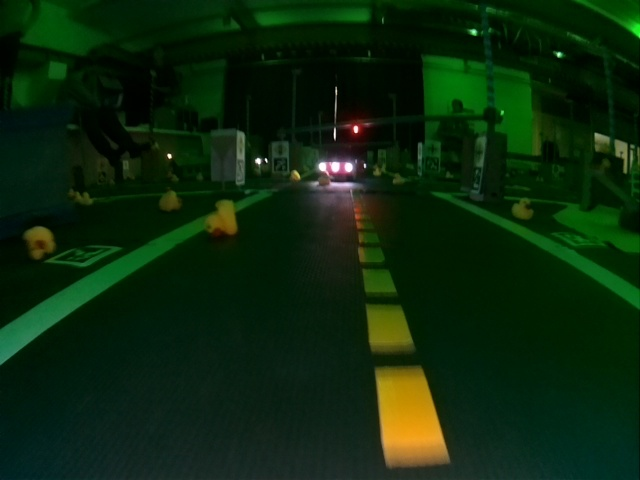Duckie: (205, 201, 237, 232), (26, 229, 54, 258), (513, 200, 533, 217), (157, 191, 177, 207), (319, 174, 329, 183), (290, 171, 299, 179), (393, 175, 401, 183)
Duckiebot: (318, 155, 360, 177)
QR code: (46, 243, 114, 266), (554, 229, 594, 247), (425, 156, 439, 172), (474, 170, 482, 191), (273, 160, 288, 171)
Traffic light: (351, 124, 359, 136)
